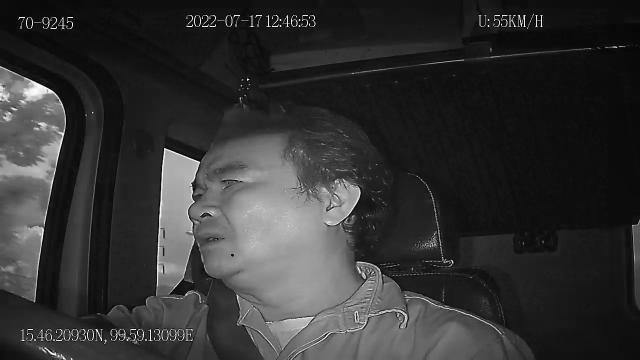Seatbelt: (205, 276, 268, 360)
